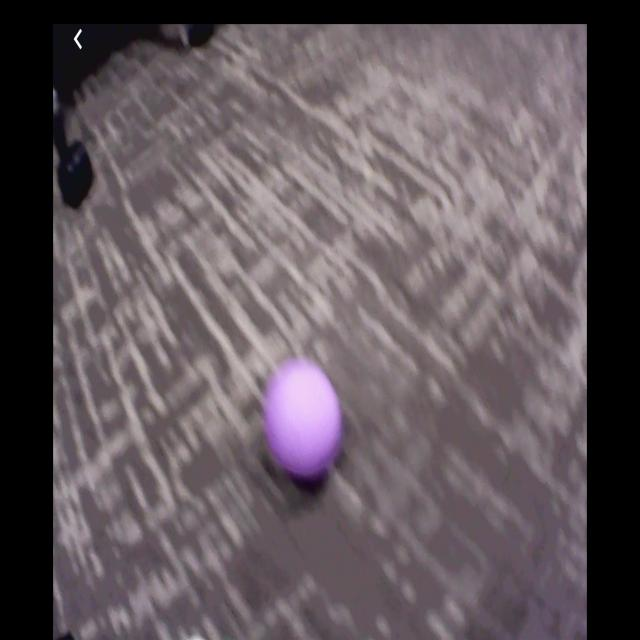ball: (263, 357, 341, 478)
